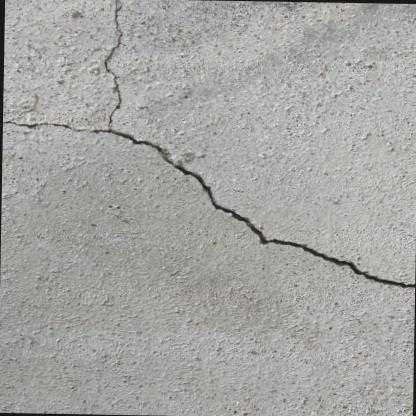crack: (1, 3, 415, 288)
